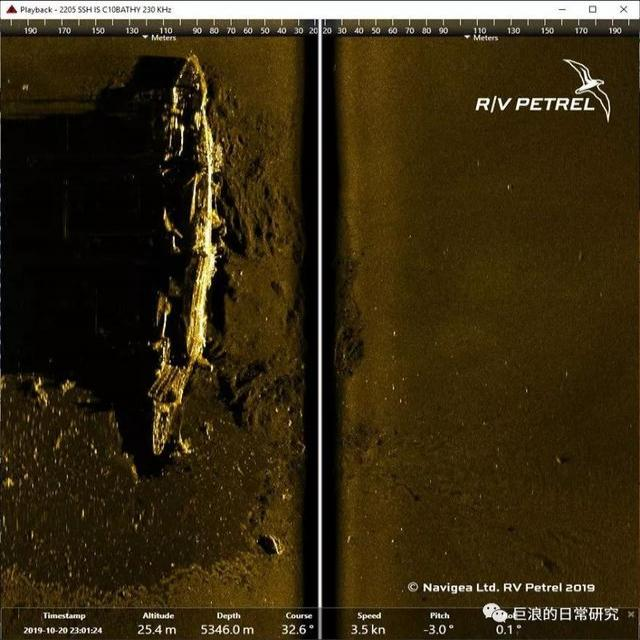ship: (147, 49, 217, 456)
